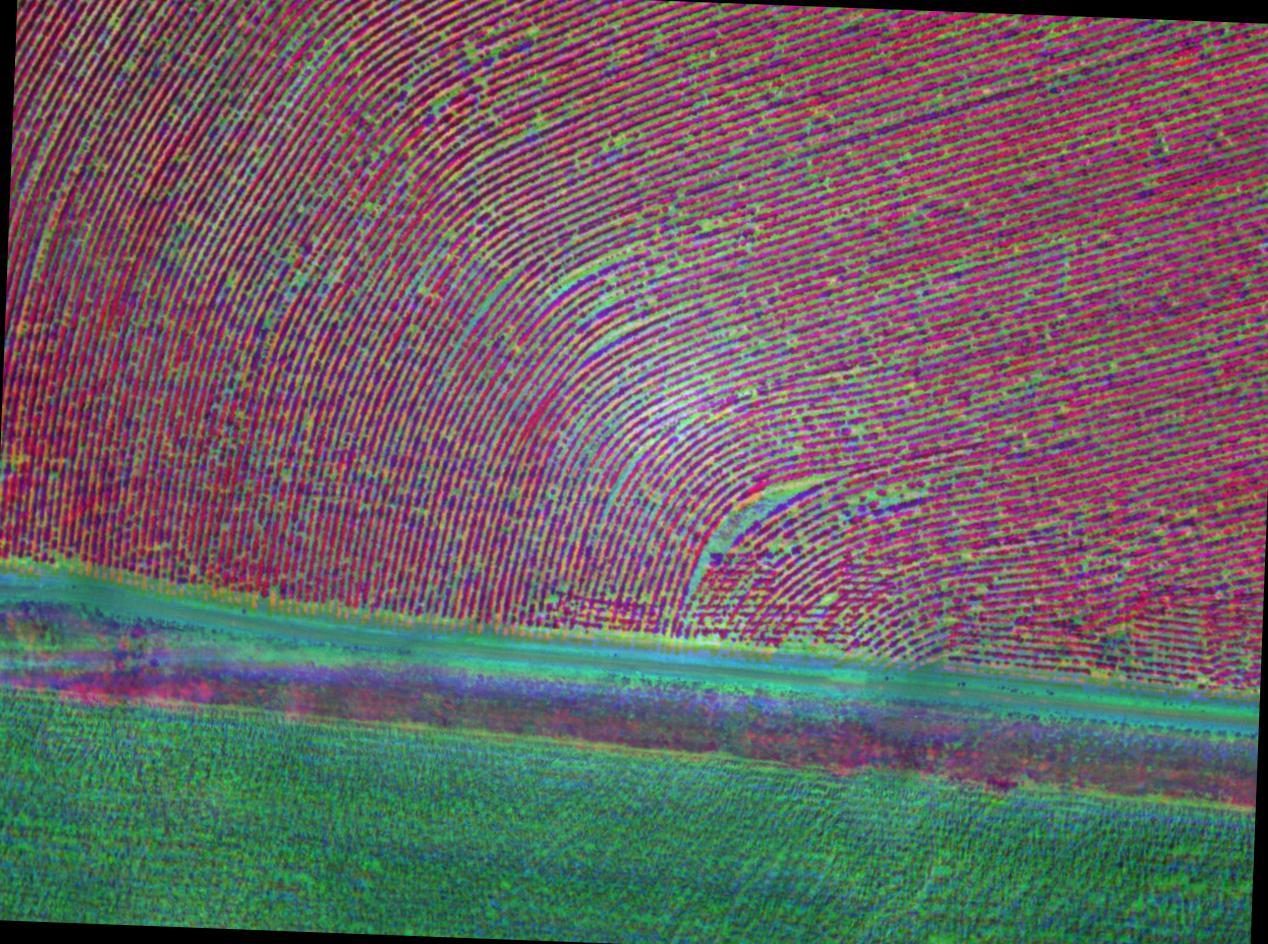dc: (148, 198, 313, 331), (511, 205, 677, 337), (678, 455, 802, 590), (421, 25, 556, 132), (223, 28, 337, 139)
